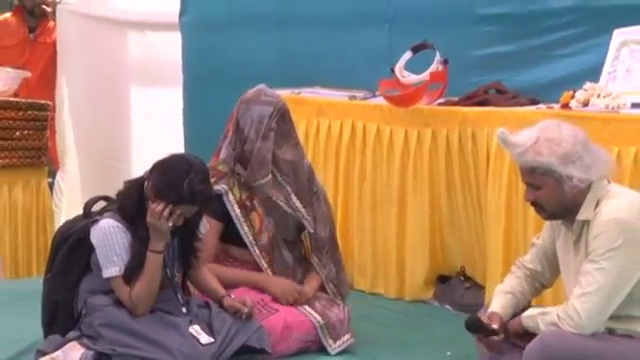helmet: (0, 66, 33, 99)
helmet_off: (496, 118, 609, 225), (224, 88, 291, 165), (136, 155, 212, 220), (20, 1, 53, 26)
person: (24, 153, 260, 358), (471, 118, 640, 359), (202, 92, 345, 347), (0, 1, 60, 99)
